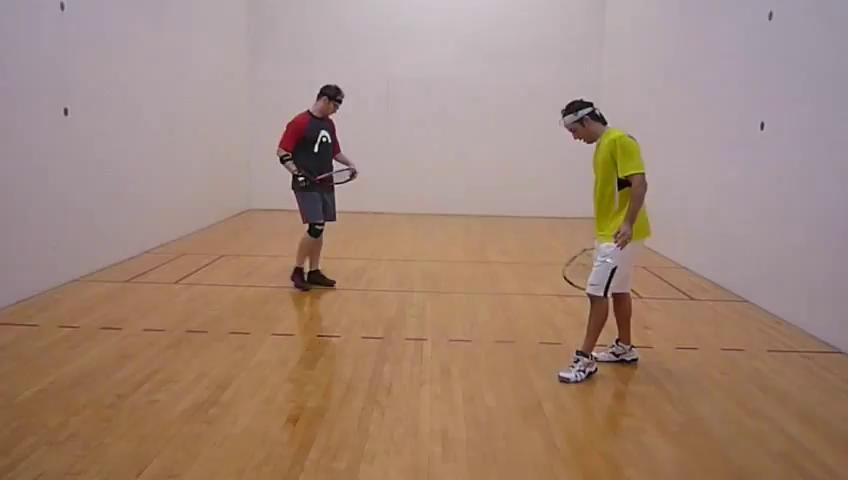victim: (544, 97, 652, 387), (274, 81, 358, 296)
